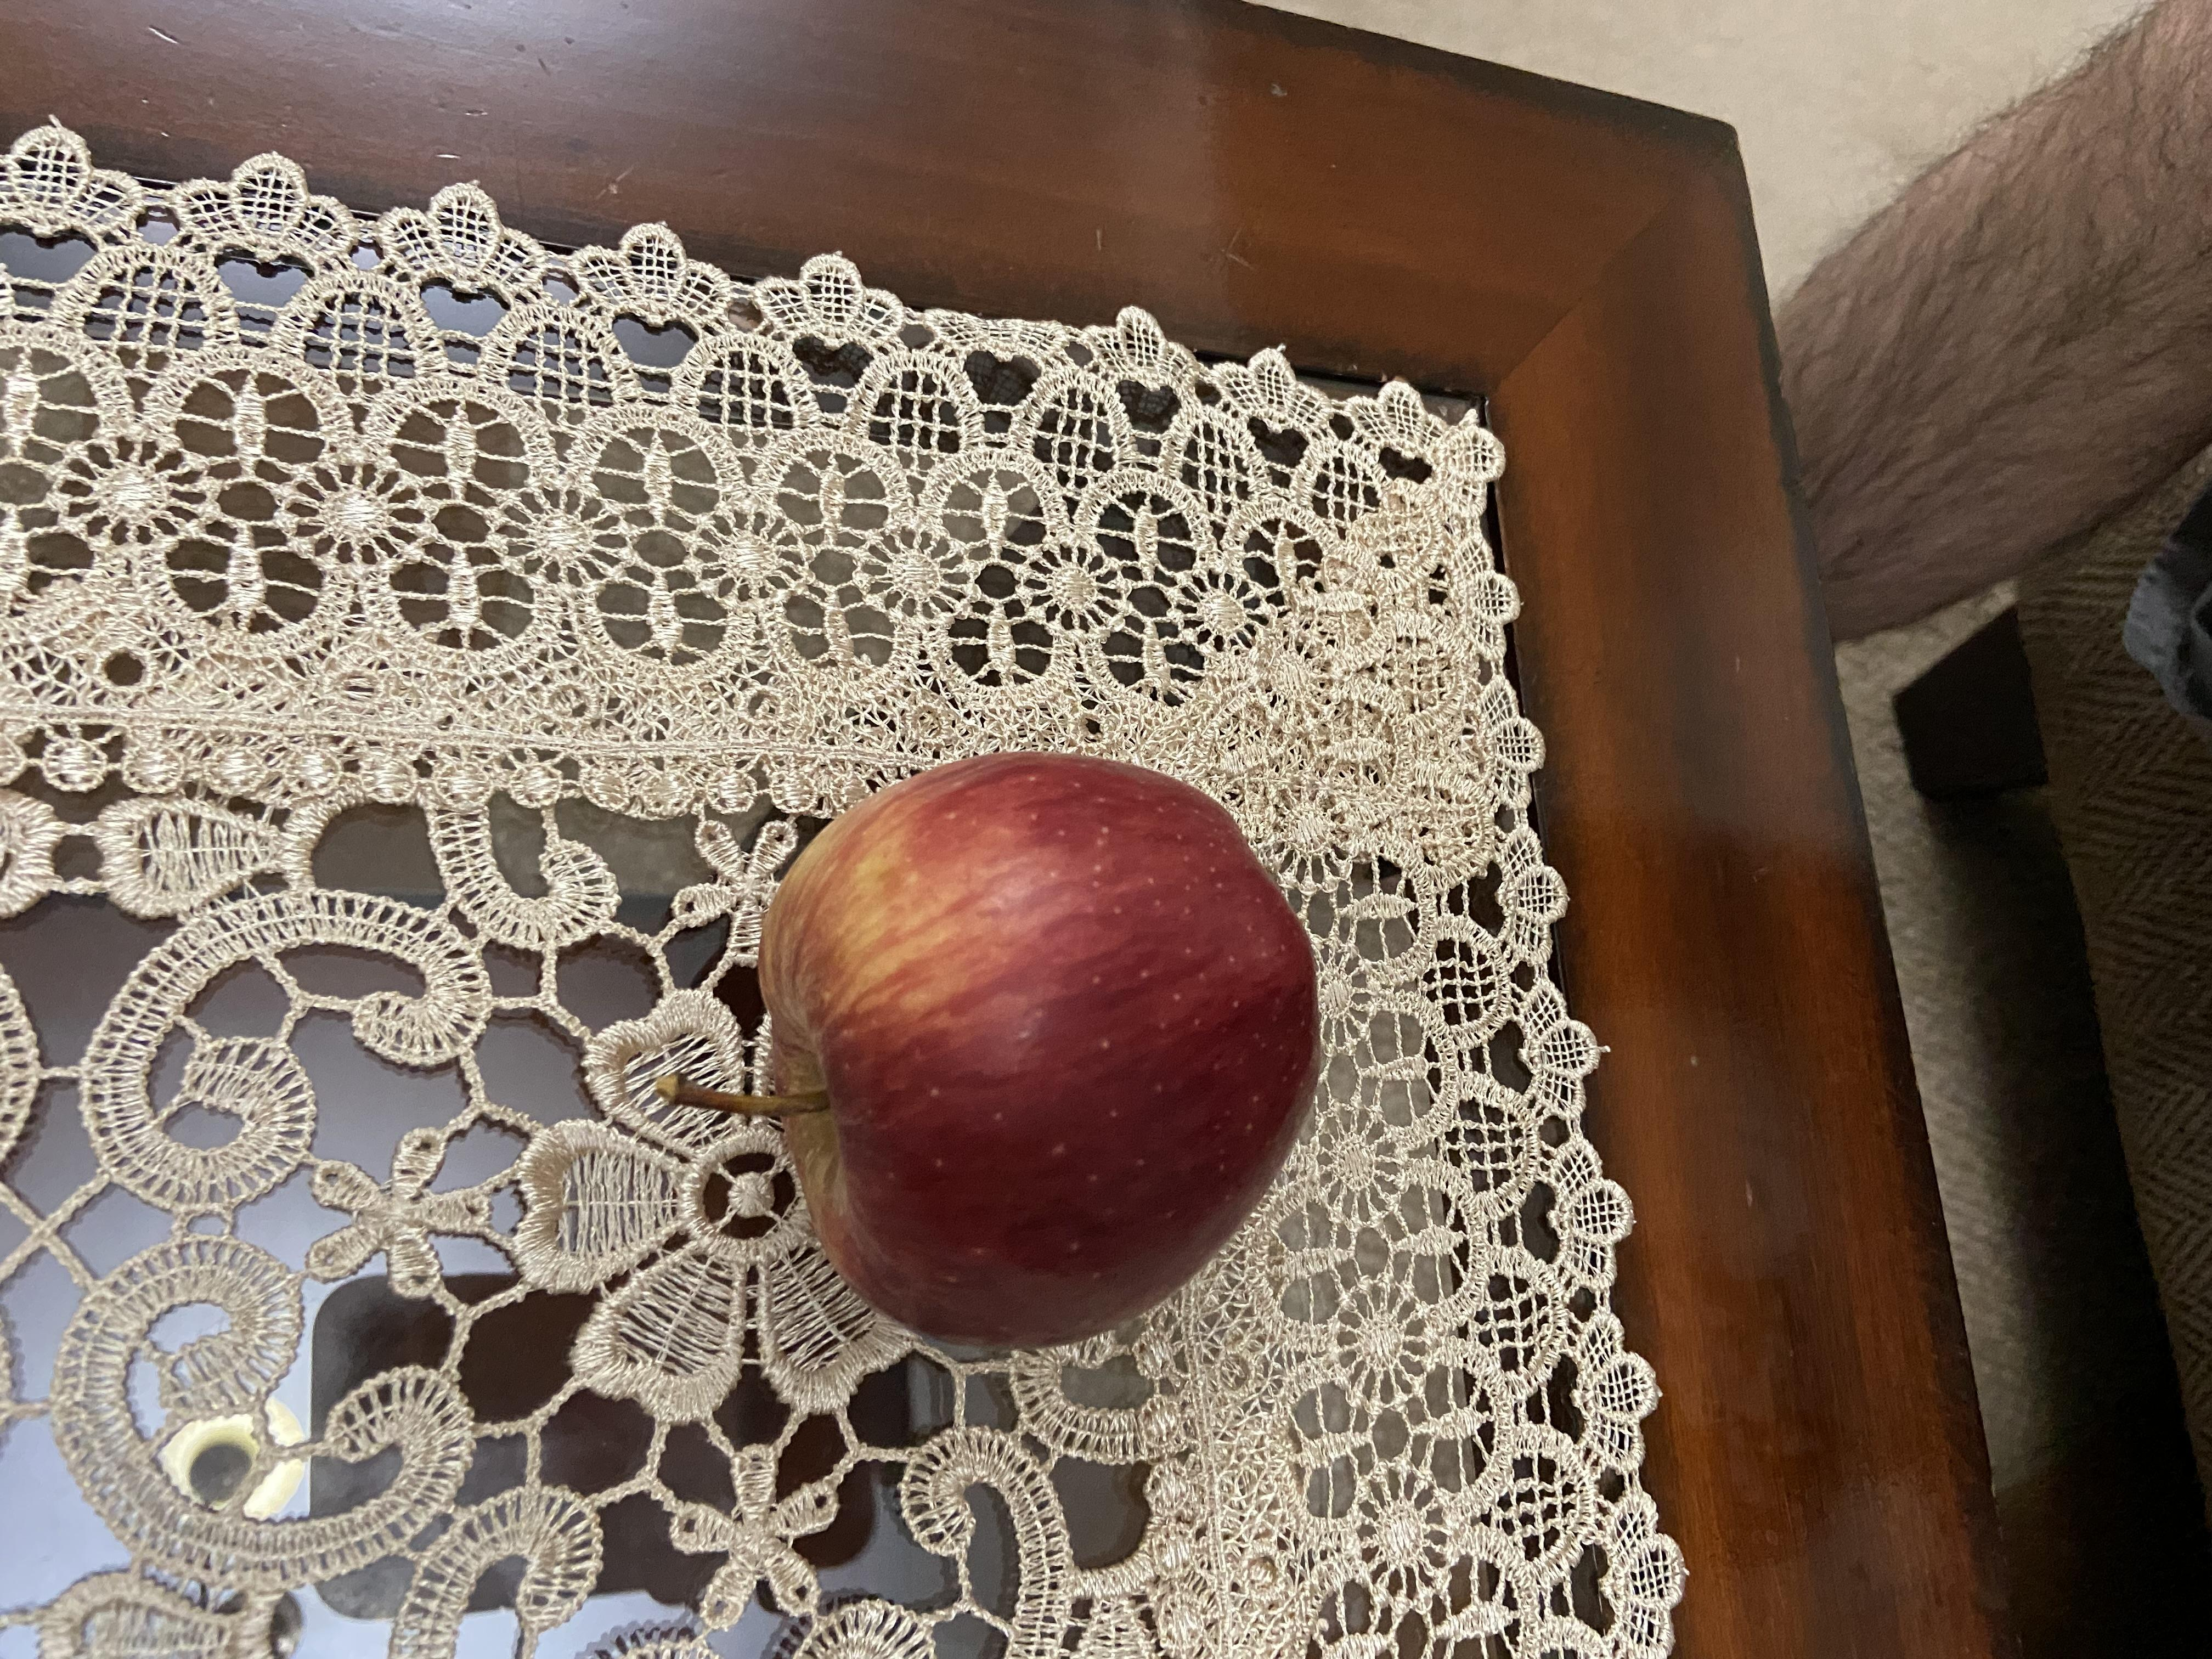Apple: (896, 291, 1575, 927)
